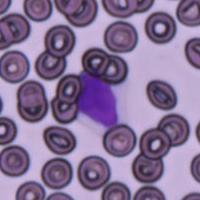M: (75, 70, 129, 133)
